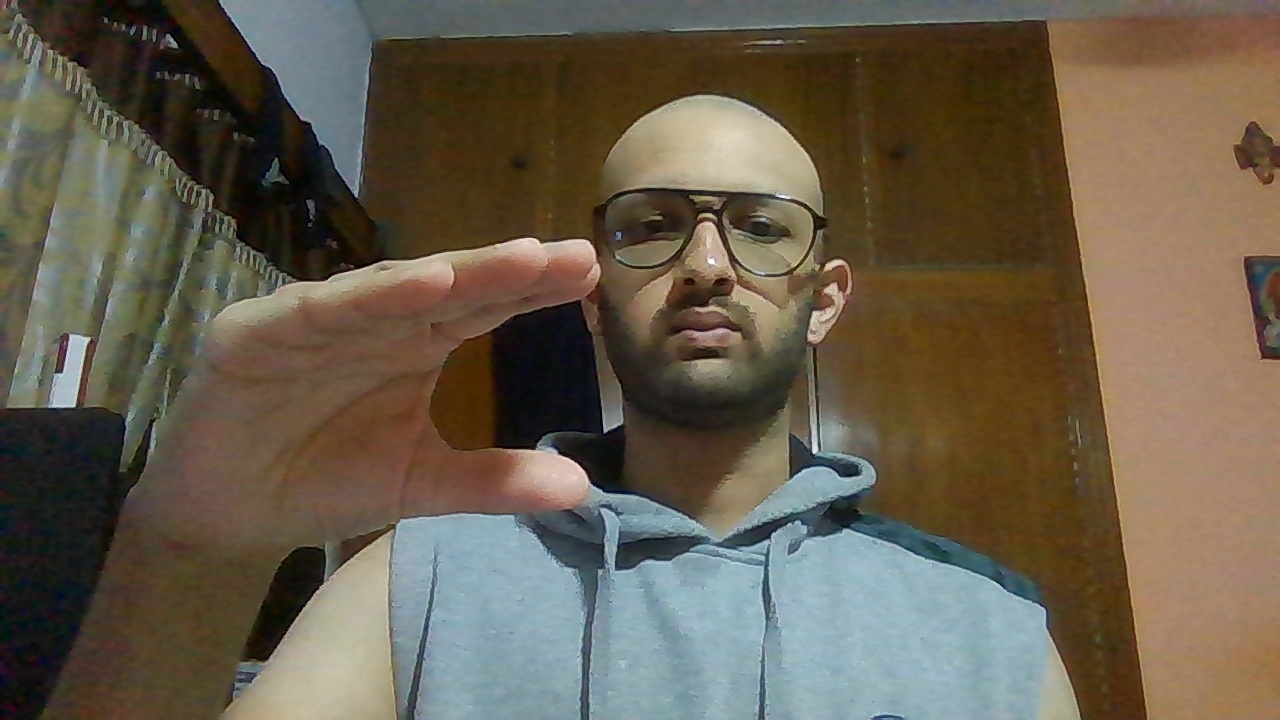No: (136, 239, 603, 521)
